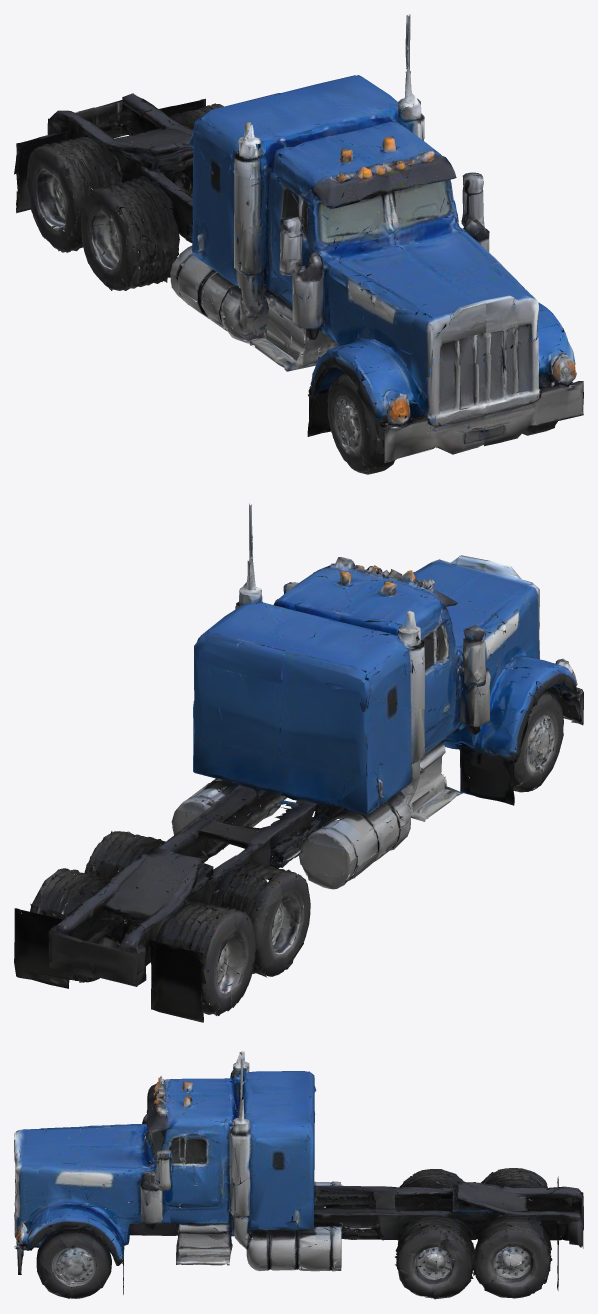
The model's file is tractor_1980.glb.
The picture shows the model from 3 angles, top to bottom: view 1: azimuth 30°, elevation 25°; view 2: azimuth 150°, elevation 25°; view 3: azimuth 270°, elevation 25°; orthographic projection. The views are drawn at different scales.
Visible parts, largest first — view 1: Tractor; view 2: Tractor; view 3: Tractor.
Part boxes in pixels (box(x1,y1,x2,y2)): Tractor: box(14, 14, 583, 474); Tractor: box(14, 503, 583, 1022); Tractor: box(14, 1051, 583, 1299).
Size of the model in its own units: 2.57 by 3.93 by 8.46.
Materials: 1 (1 with a texture image).
